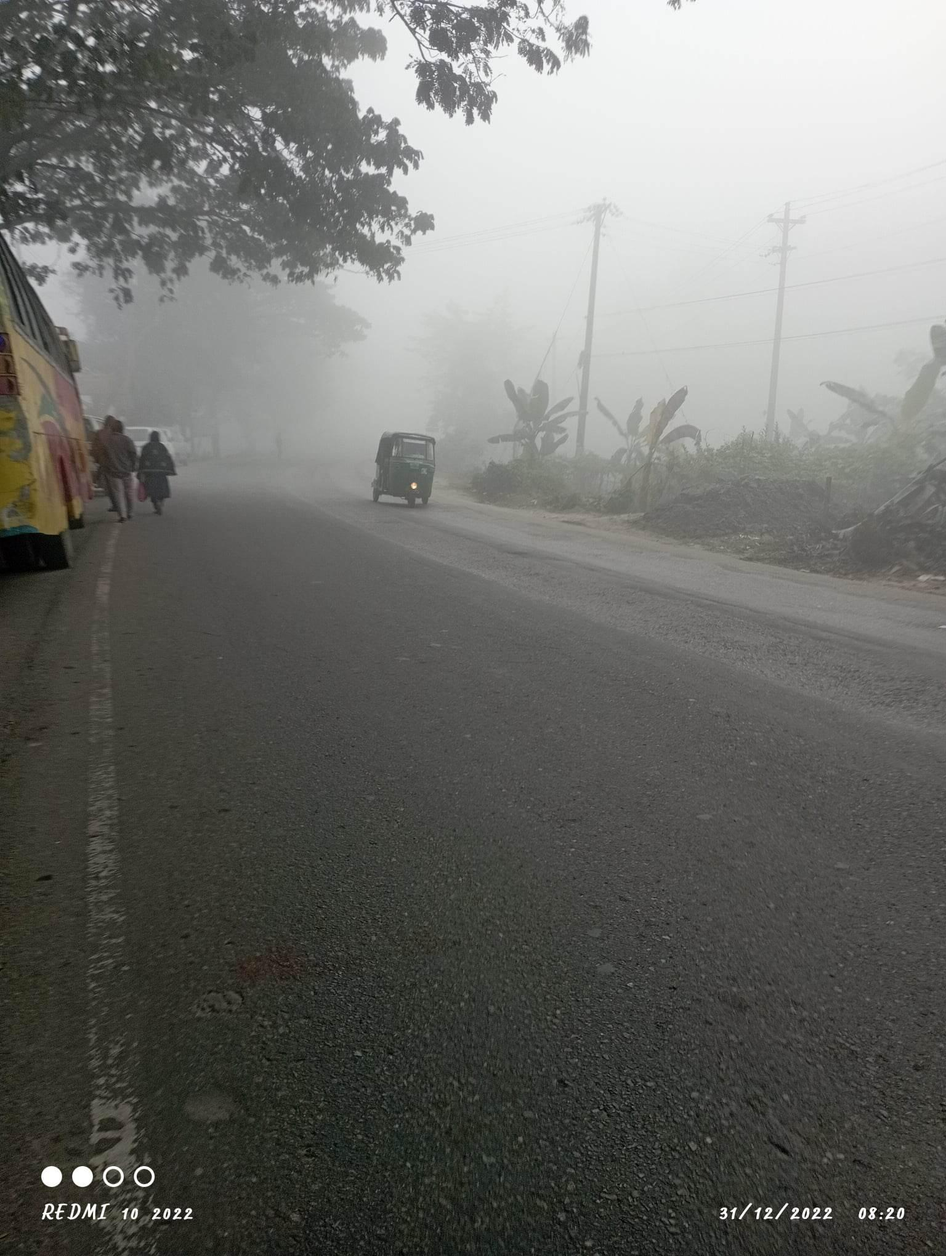Bus: (6, 211, 142, 600)
